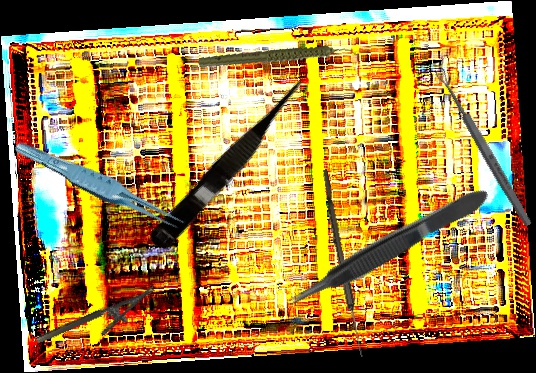Handpiece: (197, 24, 358, 92)
Micro Scissor: (145, 65, 323, 259)
Needle Holder: (35, 286, 163, 360)
Surgical Spoon: (434, 66, 534, 229), (318, 169, 367, 358)
Tissue Forceps: (280, 183, 495, 316), (12, 127, 190, 247)
